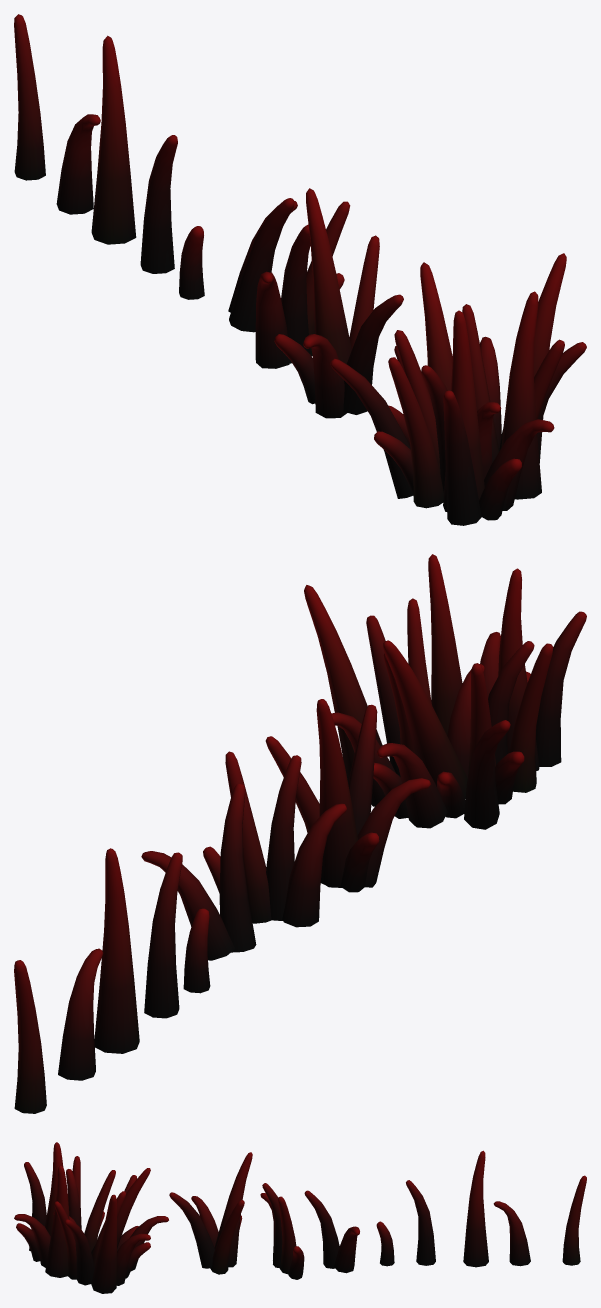
File: KM_Grass01.fbx
The picture shows the model from 3 angles, top to bottom: view 1: azimuth 30°, elevation 25°; view 2: azimuth 150°, elevation 25°; view 3: azimuth 270°, elevation 25°; orthographic projection. The views are drawn at different scales.
Visible parts, largest first — view 1: GrassPatch04, GrassPatch03, GrassPatch02, Grass04, Grass02, Grass01, GrassPatch01, Grass03, Grass05; view 2: GrassPatch04, GrassPatch03, GrassPatch02, GrassPatch01, Grass04, Grass01, Grass03, Grass02, Grass05; view 3: GrassPatch04, GrassPatch03, GrassPatch02, Grass04, GrassPatch01, Grass01, Grass02, Grass03, Grass05.
Part boxes in pixels (x1,y1,x2,y2): GrassPatch04: [330, 253, 586, 525]; GrassPatch03: [274, 188, 403, 418]; GrassPatch02: [255, 201, 350, 368]; Grass04: [91, 35, 136, 244]; Grass02: [14, 14, 45, 180]; Grass01: [140, 135, 177, 273]; GrassPatch01: [228, 198, 297, 332]; Grass03: [56, 114, 100, 214]; Grass05: [179, 226, 204, 299]; GrassPatch04: [304, 554, 586, 829]; GrassPatch03: [265, 699, 431, 892]; GrassPatch02: [203, 751, 346, 927]; GrassPatch01: [141, 783, 256, 960]; Grass04: [94, 848, 139, 1053]; Grass01: [144, 852, 182, 1018]; Grass03: [58, 948, 103, 1080]; Grass02: [14, 960, 46, 1113]; Grass05: [183, 908, 210, 993]; GrassPatch04: [14, 1142, 168, 1293]; GrassPatch03: [169, 1152, 252, 1274]; GrassPatch02: [260, 1183, 304, 1279]; Grass04: [463, 1150, 488, 1267]; GrassPatch01: [304, 1190, 359, 1273]; Grass01: [406, 1180, 435, 1265]; Grass02: [562, 1175, 586, 1265]; Grass03: [493, 1201, 530, 1266]; Grass05: [376, 1221, 394, 1266].
Size of the model in its own units: 0.3685 by 0.3504 by 1.47.
